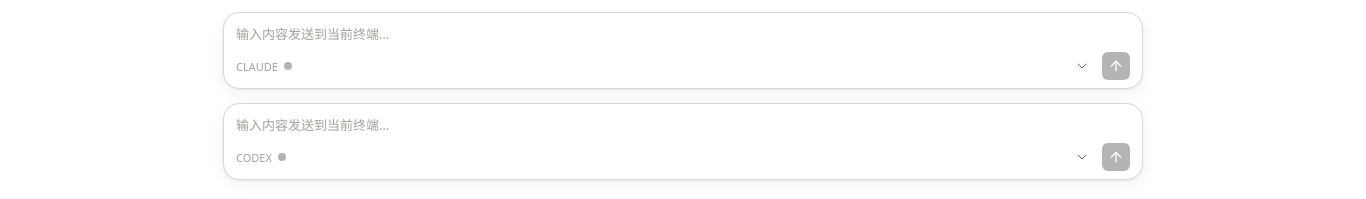
ComposerBar › 按窗格分别保存折叠状态
The image size is (1366, 199).
Click the button titled "折叠" in the row of "claude" at (1082, 66), box [1068,52,1096,80]
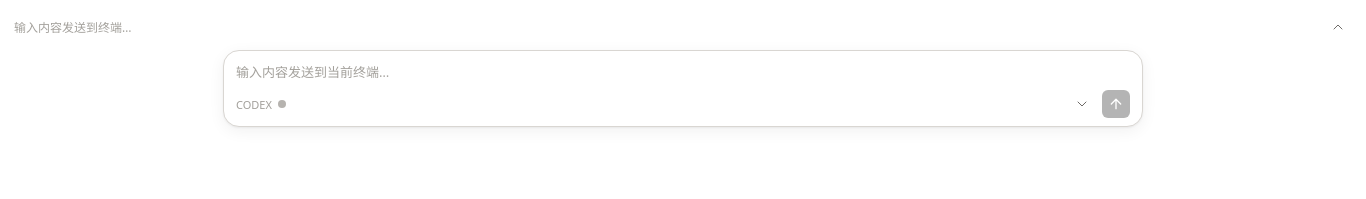
Expected: the button titled "展开输入框" is shown, [1324,13,1352,41]
Now the number of text boxes with placeholder "输入内容发送到当前终端…" is 1, box [236,61,1130,90]
